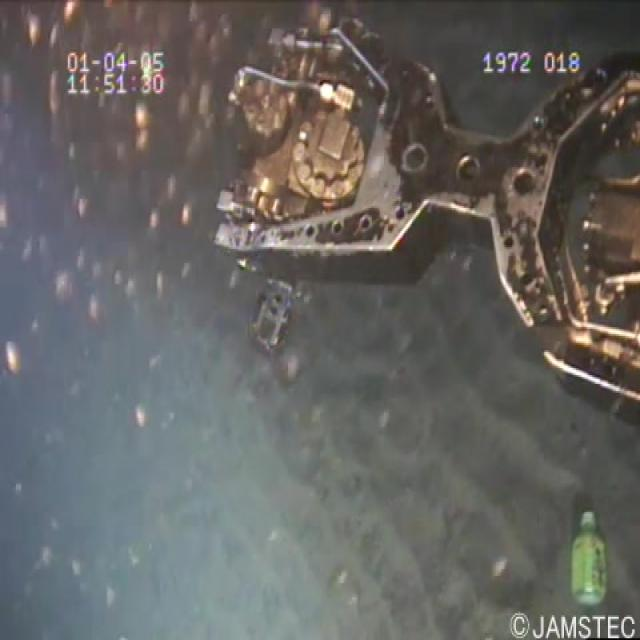plastic: (562, 503, 610, 610)
